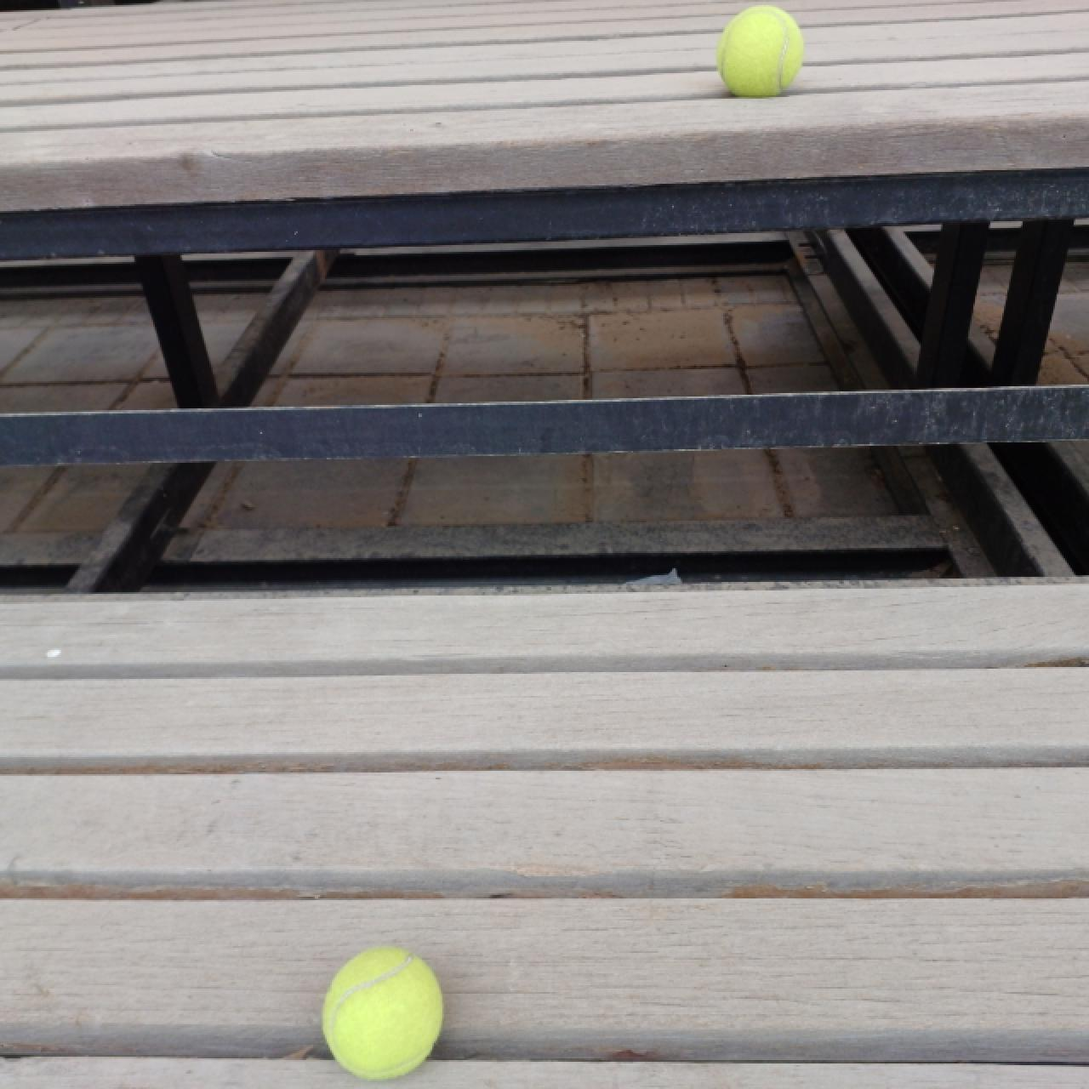tennis-ball: (322, 945, 444, 1081), (713, 3, 805, 101)
